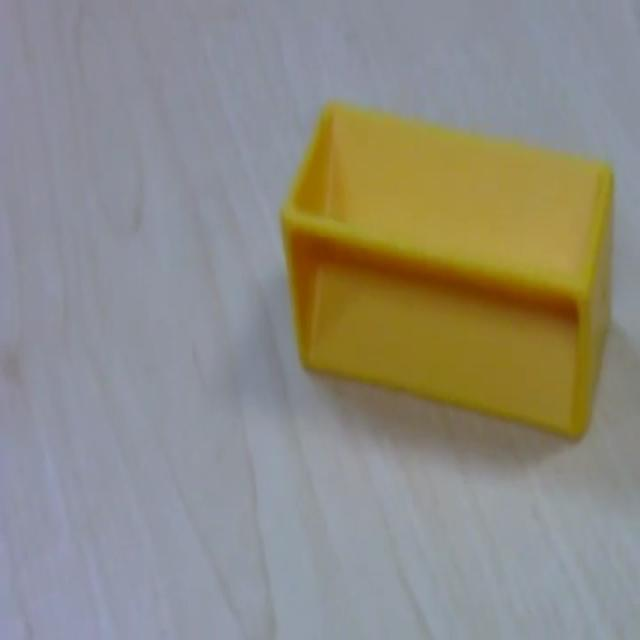yellow_block: (279, 97, 615, 440)
